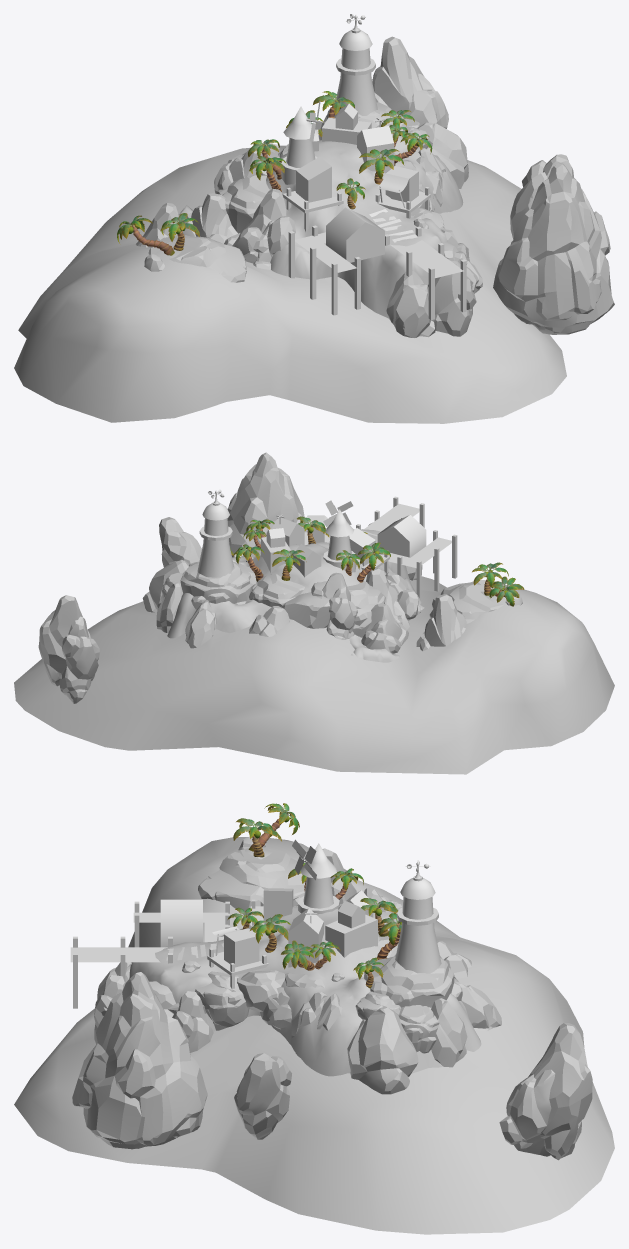
File: Island_test.fbx
3 renders of one model, top to bottom at view 1: azimuth 30°, elevation 25°; view 2: azimuth 150°, elevation 25°; view 3: azimuth 270°, elevation 25°, orthographic. The views are drawn at different scales.
Visible parts, largest first — view 1: Terrain, Rocks, Woods, Palmtree_004, BD_Lighthouse, BD_ShipYard, BD_house_C, BD_Fishing_store, BD_house_B, BD_FishMarket, BD_house_A; view 2: Terrain, Rocks, Palmtree_004, Woods, BD_Lighthouse, BD_ShipYard, BD_house_C, BD_house_A (×2), BD_house_B, BD_Fishing_store; view 3: Terrain, Rocks, Palmtree_004, Woods, BD_Lighthouse, BD_house_C, BD_house_B, BD_ShipYard, BD_FishMarket, BD_house_A, BD_Fishing_store.
Boxes of the visible parts, x1=… form: Terrain: x1=14, y1=135, x2=566, y2=423; Rocks: x1=136, y1=36, x2=614, y2=337; Woods: x1=282, y1=187, x2=466, y2=320; Palmtree_004: x1=117, y1=91, x2=432, y2=255; BD_Lighthouse: x1=336, y1=14, x2=377, y2=115; BD_ShipYard: x1=326, y1=207, x2=384, y2=262; BD_house_C: x1=281, y1=101, x2=322, y2=184; BD_Fishing_store: x1=296, y1=156, x2=331, y2=202; BD_house_B: x1=322, y1=103, x2=371, y2=144; BD_FishMarket: x1=376, y1=166, x2=418, y2=207; BD_house_A: x1=357, y1=117, x2=394, y2=173; Terrain: x1=14, y1=529, x2=614, y2=774; Rocks: x1=38, y1=452, x2=522, y2=703; Palmtree_004: x1=230, y1=516, x2=524, y2=606; Woods: x1=302, y1=496, x2=457, y2=598; BD_Lighthouse: x1=197, y1=489, x2=233, y2=577; BD_ShipYard: x1=377, y1=514, x2=426, y2=557; BD_house_C: x1=323, y1=500, x2=356, y2=572; BD_house_A (×2): x1=272, y1=514, x2=321, y2=577; BD_house_B: x1=261, y1=528, x2=290, y2=573; BD_Fishing_store: x1=349, y1=528, x2=375, y2=566; Terrain: x1=14, y1=837, x2=614, y2=1234; Rocks: x1=72, y1=837, x2=592, y2=1160; Palmtree_004: x1=227, y1=803, x2=401, y2=988; Woods: x1=70, y1=899, x2=297, y2=1008; BD_Lighthouse: x1=395, y1=860, x2=441, y2=973; BD_house_C: x1=292, y1=839, x2=339, y2=914; BD_house_B: x1=325, y1=900, x2=377, y2=957; BD_ShipYard: x1=160, y1=899, x2=202, y2=947; BD_FishMarket: x1=212, y1=926, x2=259, y2=967; BD_house_A: x1=288, y1=908, x2=323, y2=967; BD_Fishing_store: x1=263, y1=888, x2=293, y2=923.
Bounding box in the file's own units: 30.78 × 13.04 × 25.47.
